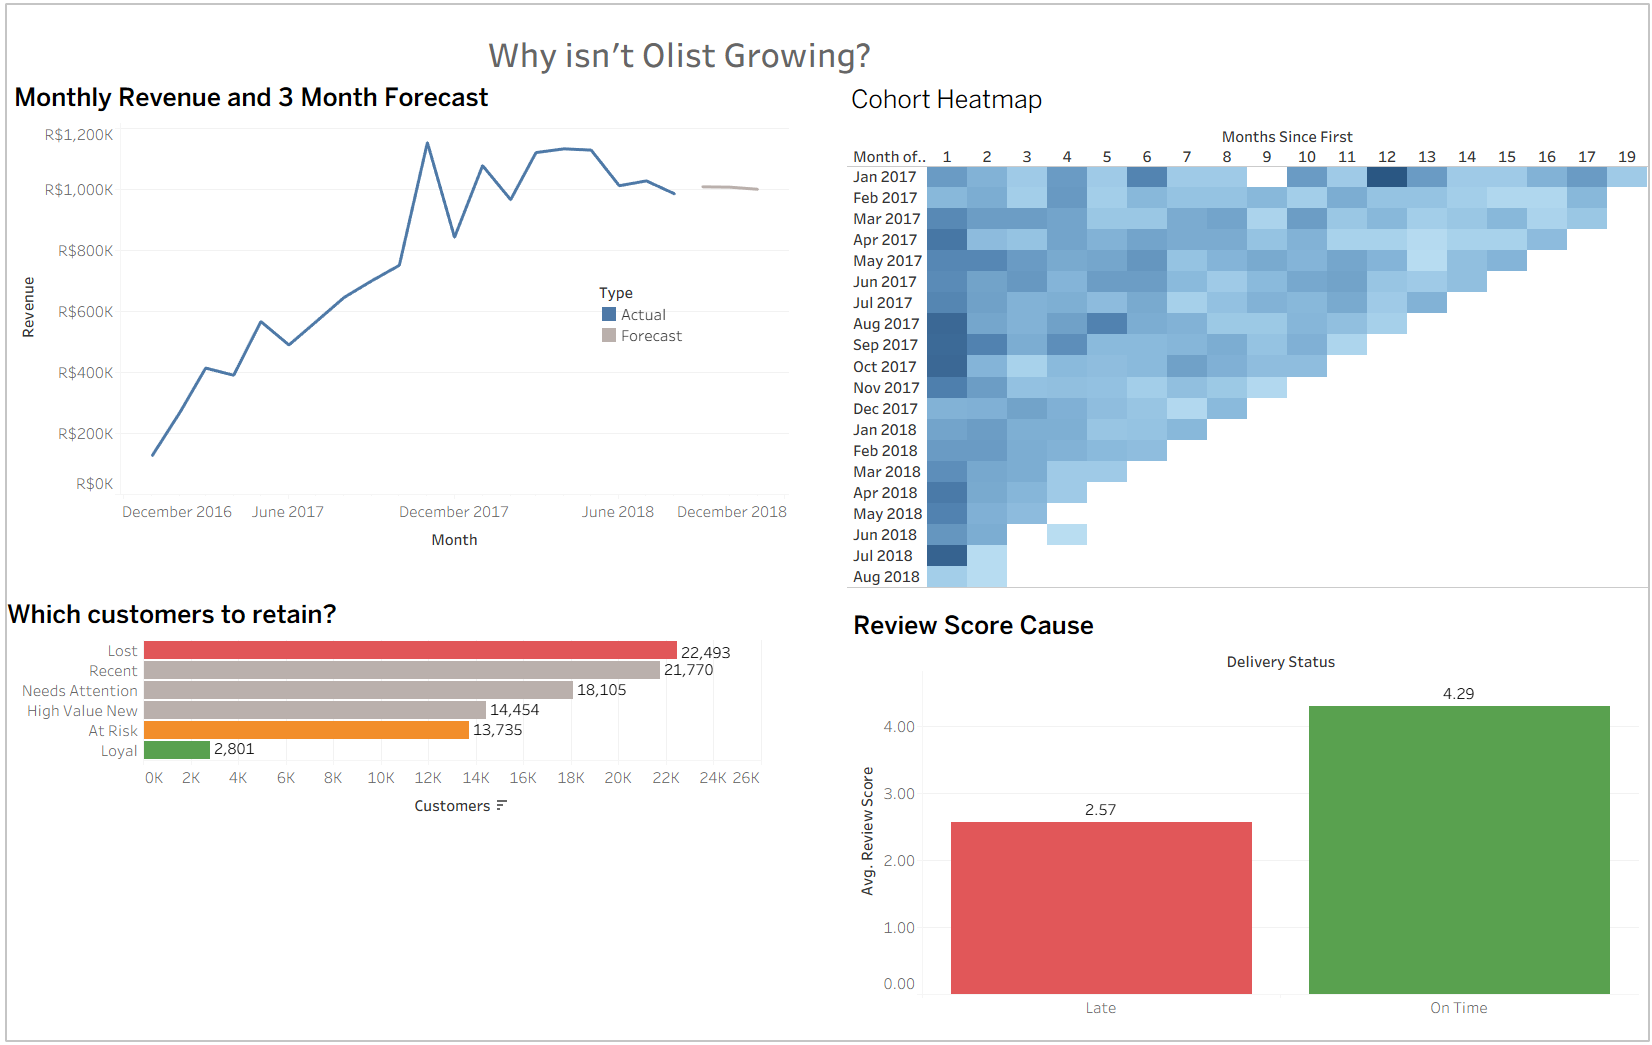

Layout of this report page (visuals, bound fields, positions):
{"tool":"tableau","page":{"name":"Dashboard 1","canvas":[1000,1000],"units":"permille","ordinal":0},"visuals":[{"type":"text","box":[10.7,7.7,978.5,984.6]},{"type":"text","box":[292.9,13.3,529,80.9]},{"type":"worksheet","title":"Revenue Forecast","mark":"Automatic","rows":["revenue"],"cols":["month"],"box":[6.4,77.1,470.4,455.8]},{"type":"worksheet","title":"Cohort Heatmap","mark":"Square","rows":["cohort_month"],"cols":["months_since_first"],"box":[512,78,483.3,484.3]},{"type":"legend","title":"Revenue Forecast","param":"[federated.0i2evs319cz0ug1ei843i0abs77q].[none:type:nk]","box":[362,271.2,82,60.9]},{"type":"worksheet","title":"RFM Segments","mark":"Automatic","rows":["segment"],"cols":["rfm_segments_475BD207E1AF4685AD5DB12109A9DBA9"],"box":[2.3,569,458.1,415.8]},{"type":"worksheet","title":"Delivery Reviews","mark":"Automatic","rows":["review_score"],"cols":["delivery_status"],"box":[513.2,579.5,476.9,393]}]}

Visuals, with their boxes on the dashboard's canvas, which has no fixed pixel size, in thousandths of its width and height (x1, y1, x2, y2). These are canvas units, not pixel positions in the 1652x1045 screenshot, which may show the page scaled, cropped or inside an application window:
text: x1=11 y1=8 x2=989 y2=992
text: x1=293 y1=13 x2=822 y2=94
"Revenue Forecast" worksheet: x1=6 y1=77 x2=477 y2=533
"Cohort Heatmap" worksheet (Square marks): x1=512 y1=78 x2=995 y2=562
"Revenue Forecast" legend: x1=362 y1=271 x2=444 y2=332
"RFM Segments" worksheet: x1=2 y1=569 x2=460 y2=985
"Delivery Reviews" worksheet: x1=513 y1=580 x2=990 y2=972
